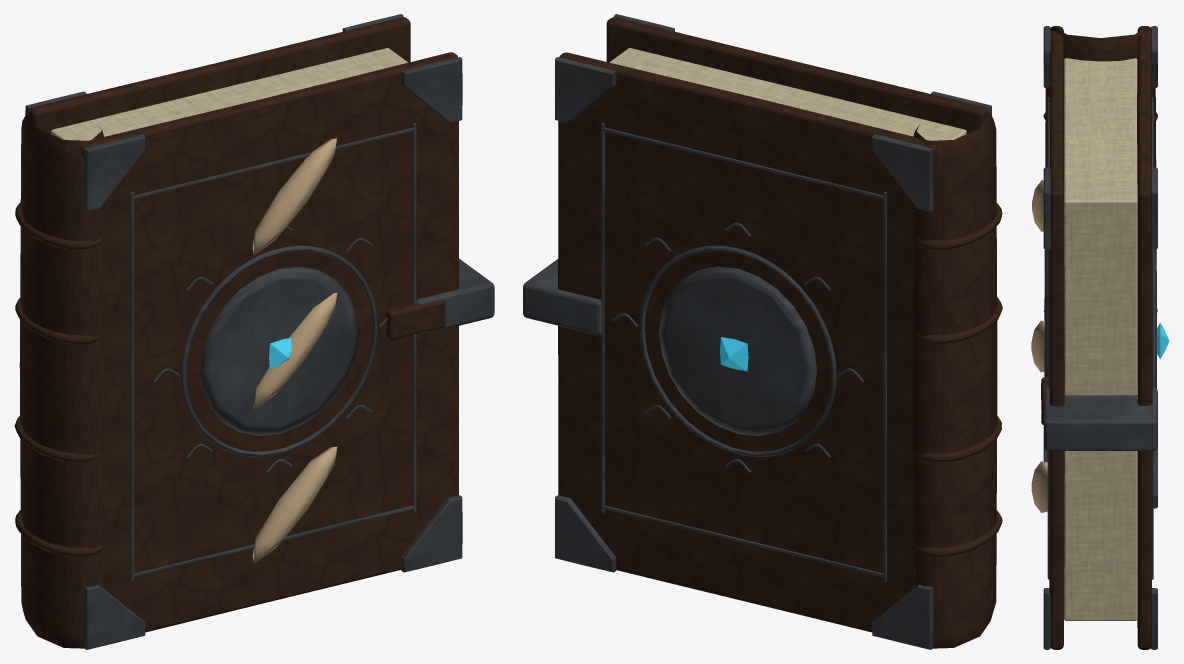
File: grimoire.lod1.glb
The picture shows the model from 3 angles, left to right: view 1: azimuth 30°, elevation 25°; view 2: azimuth 150°, elevation 25°; view 3: azimuth 270°, elevation 25°; orthographic projection. The views are drawn at different scales.
Visible parts, largest first — view 1: leather / oiled leather wrap, darksteel / oil-blackened fittings, thread loop, paper / paper and vellum; view 2: leather / oiled leather wrap, darksteel / oil-blackened fittings, paper / paper and vellum, crystal / faceted crystal; view 3: paper / paper and vellum, leather / oiled leather wrap, darksteel / oil-blackened fittings, thread loop, crystal / faceted crystal.
Boxes of the visible parts, x1=… form: leather / oiled leather wrap: x1=14, y1=17, x2=458, y2=648; darksteel / oil-blackened fittings: x1=25, y1=14, x2=494, y2=649; thread loop: x1=252, y1=138, x2=337, y2=563; paper / paper and vellum: x1=51, y1=48, x2=407, y2=140; leather / oiled leather wrap: x1=558, y1=17, x2=1002, y2=648; darksteel / oil-blackened fittings: x1=523, y1=14, x2=991, y2=649; paper / paper and vellum: x1=609, y1=48, x2=966, y2=140; crystal / faceted crystal: x1=720, y1=337, x2=748, y2=371; paper / paper and vellum: x1=1064, y1=58, x2=1137, y2=620; leather / oiled leather wrap: x1=1041, y1=26, x2=1157, y2=649; darksteel / oil-blackened fittings: x1=1043, y1=26, x2=1157, y2=649; thread loop: x1=1031, y1=180, x2=1047, y2=512; crystal / faceted crystal: x1=1157, y1=322, x2=1169, y2=359.
Bounding box in the file's own units: 0.3877 × 0.43 × 0.116.
6 materials, 3 textured.
